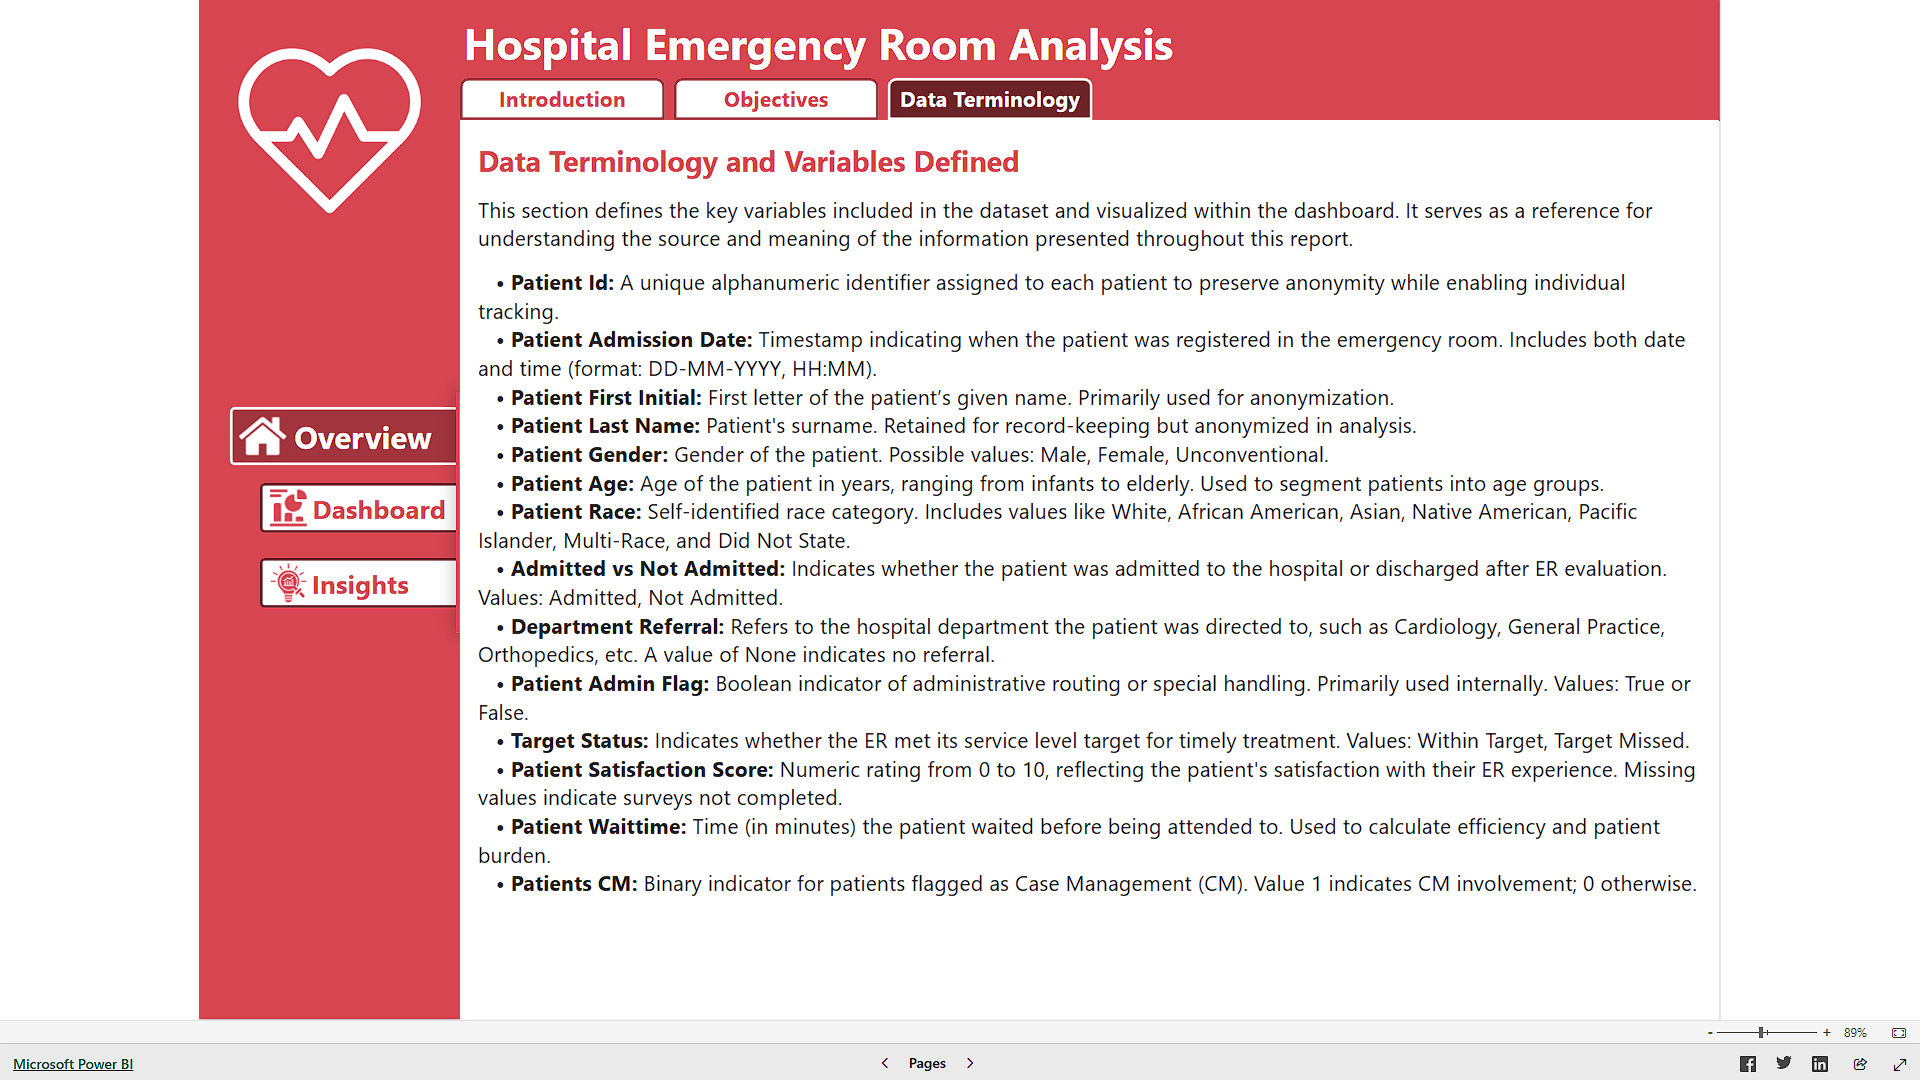

Layout of this report page (visuals, bound fields, positions):
{"tool":"powerbi","page":{"name":"Data Terminology","canvas":[1700,1140],"ordinal":3},"visuals":[{"type":"shape","box":[0,0,292.2,1139.5],"z":0},{"type":"textbox","title":"Hospital Emergency Room Analysis","box":[290.8,14.7,938.4,91],"z":0,"group":"g1"},{"type":"actionButton","box":[34.3,316.7,257.4,65.4],"z":0,"group":"g2"},{"type":"shape","box":[292,0,1408,135],"z":1000},{"type":"actionButton","box":[67.7,401.6,224,55.7],"z":1000,"group":"g2"},{"type":"image","box":[0,38.6,291.4,214.3],"z":2000},{"type":"actionButton","box":[67.7,485.2,224,55.7],"z":2000,"group":"g2"},{"type":"shape","box":[291.4,134.3,1407.1,1005.7],"z":3000},{"type":"shape","box":[287.5,300,4.2,268.5],"z":3000,"group":"g2"},{"type":"pageNavigator","box":[292.2,87.7,709.6,47.3],"z":4000},{"type":"textbox","box":[292.2,135,1405.2,1004.5],"z":5000},{"type":"group","id":"g1","title":"Group 1","box":[290.8,14.7,938.4,91],"z":6000},{"type":"group","id":"g2","title":"Group 2","box":[34.3,300,257.4,268.5],"z":7000}]}

Visuals, with their boxes on the page's 1700x1140 design canvas (x1, y1, x2, y2). These are canvas units, not pixel positions in the 1920x1080 screenshot, which may show the page scaled, cropped or inside an application window:
shape: (0,0,292,1140)
"Hospital Emergency Room Analysis" textbox: (291,15,1229,106)
actionButton: (34,317,292,382)
shape: (292,0,1700,135)
actionButton: (68,402,292,457)
image: (0,39,291,253)
actionButton: (68,485,292,541)
shape: (291,134,1698,1140)
shape: (288,300,292,568)
pageNavigator: (292,88,1002,135)
textbox: (292,135,1697,1140)
"Group 1" group: (291,15,1229,106)
"Group 2" group: (34,300,292,568)
